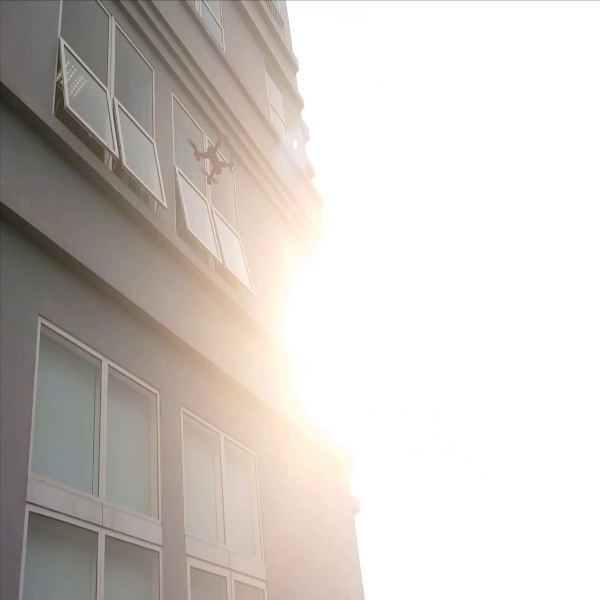drone: (179, 122, 241, 187)
